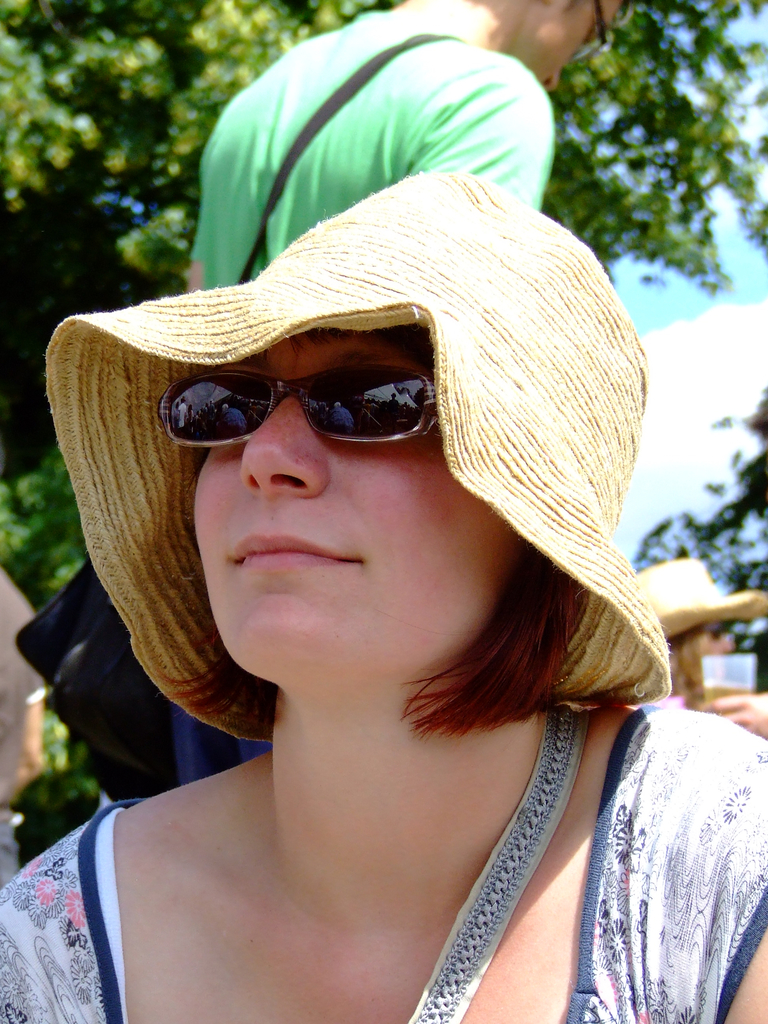Person: (165, 0, 637, 785), (636, 558, 768, 738)
